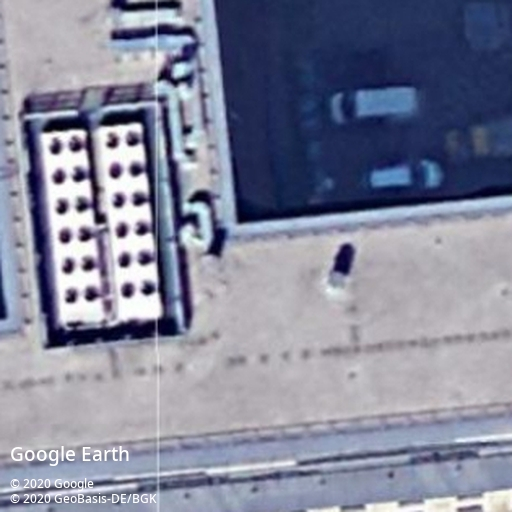Chiller: (92, 119, 167, 325), (37, 127, 108, 328)
